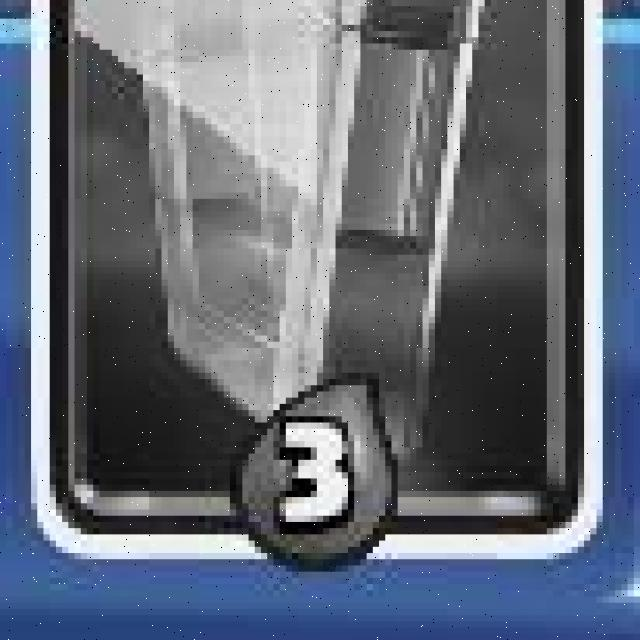Clone_Spell: (29, 0, 608, 574)
